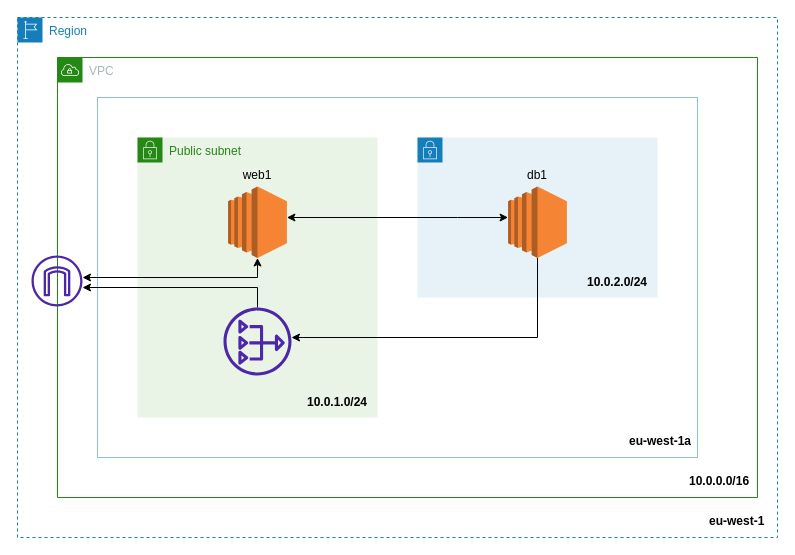
The diagram is 795 pixels wide and 555 high, and some of its shapes have lost their labels. Here are the shapes that lost their labels. From the top down, the box of each, then its label:
(416, 136, 658, 298): Private subnet
(96, 96, 698, 458): Availability Zone
